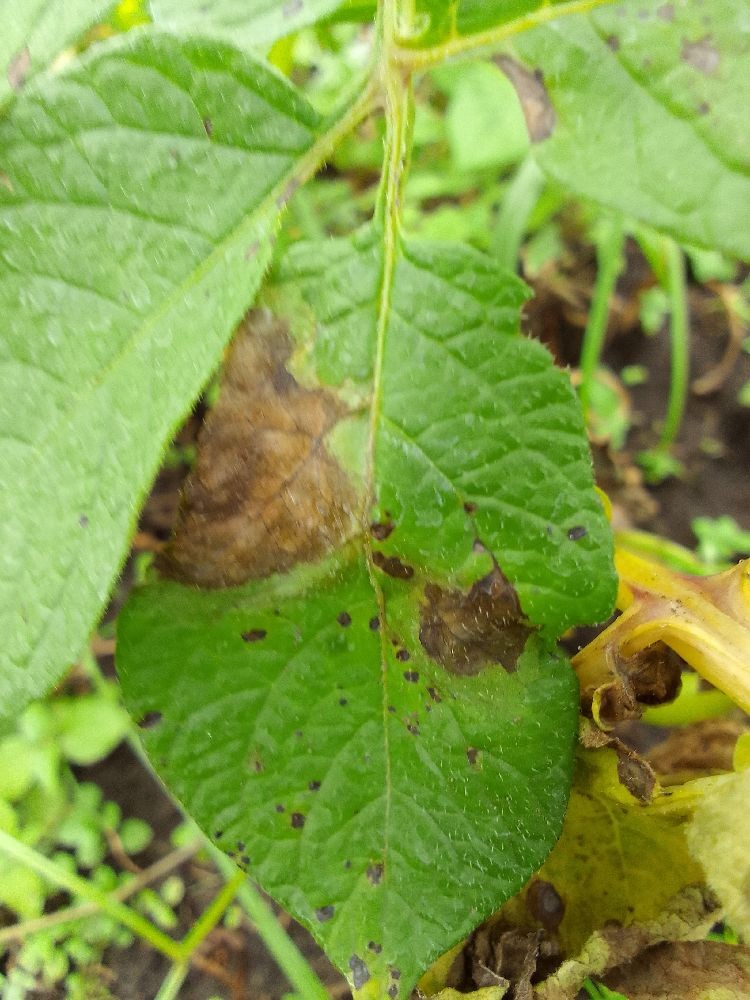late_blight: (47, 265, 439, 725), (348, 530, 559, 699), (161, 901, 308, 1000)
